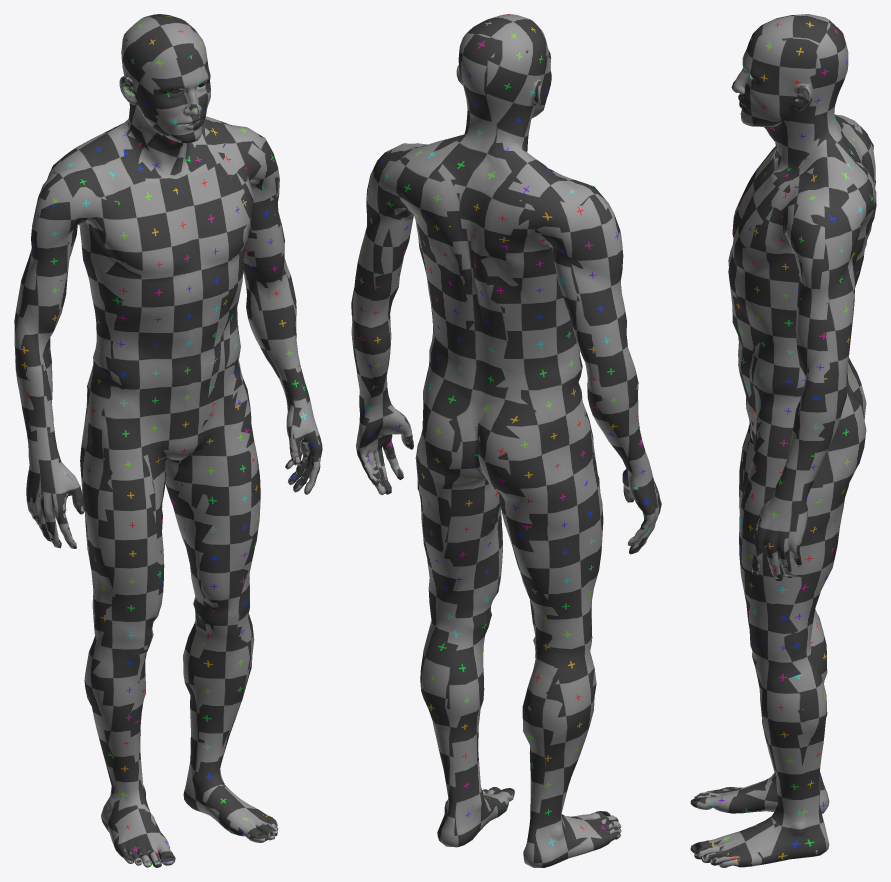
The model's file is Human.obj.
3 renders of one model, left to right at view 1: azimuth 30°, elevation 25°; view 2: azimuth 150°, elevation 25°; view 3: azimuth 270°, elevation 25°, orthographic. The views are drawn at different scales.
Parts seen in each view (by area): view 1: Man_Plane.001; view 2: Man_Plane.001; view 3: Man_Plane.001.
Part boxes in pixels (<box>): Man_Plane.001: <box>14,14,322,867</box>; Man_Plane.001: <box>351,14,661,867</box>; Man_Plane.001: <box>690,14,876,867</box>.
Size of the model in its own units: 0.6589 by 1.76 by 0.3643.
